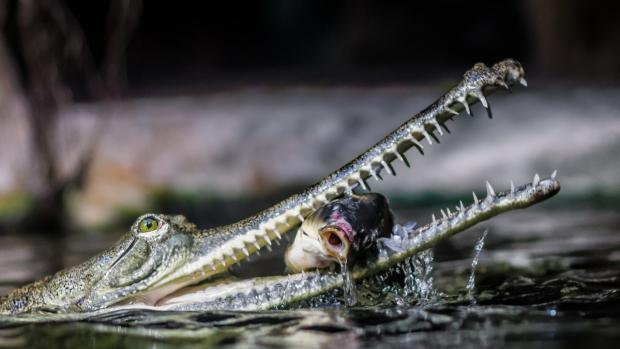Crocodile: (1, 56, 569, 318)
